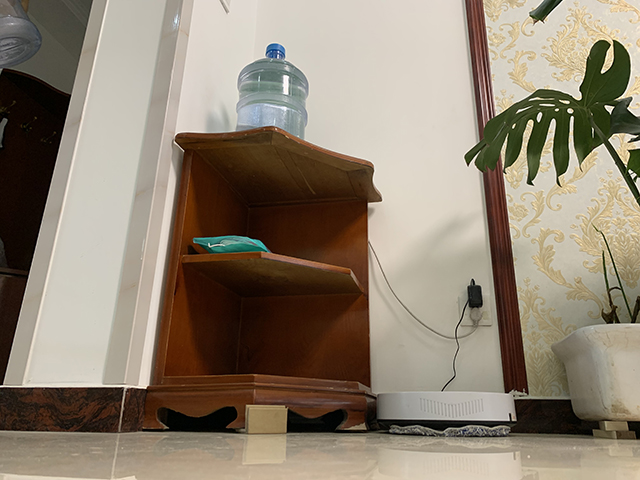cabinet: (140, 124, 383, 435)
